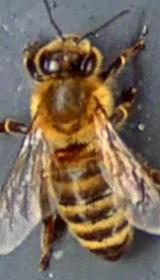varroa_mite: (44, 139, 84, 168)
